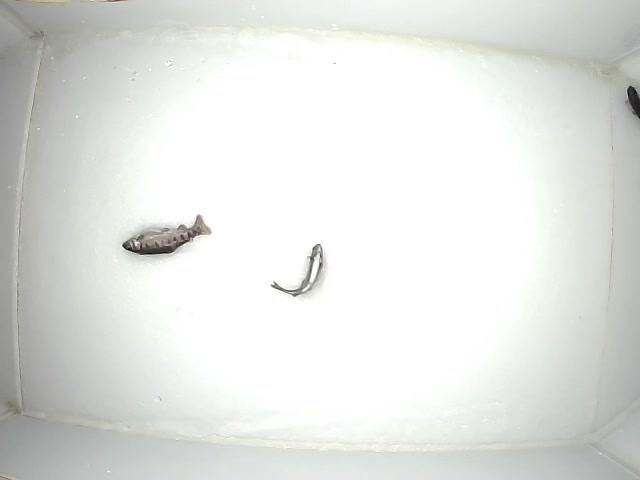fish: (118, 212, 214, 257), (269, 239, 325, 299)
